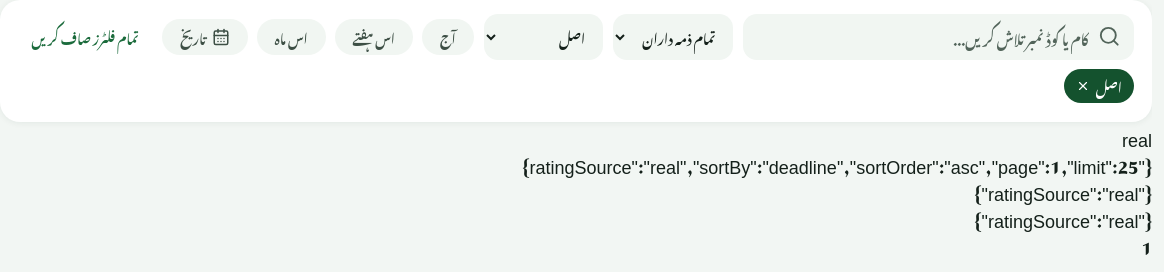
Test case: FilterBar — the "تخمینی / اصل" filter › reflects a value already in the URL, and "تمام فلٹرز صاف کریں" clears it
Expected: the dropdown named "Rating source filter" shows "اصل", [484, 14, 603, 60]
Click the button "تمام فلٹرز صاف کریں".
click(85, 36)  # box [18, 16, 152, 56]
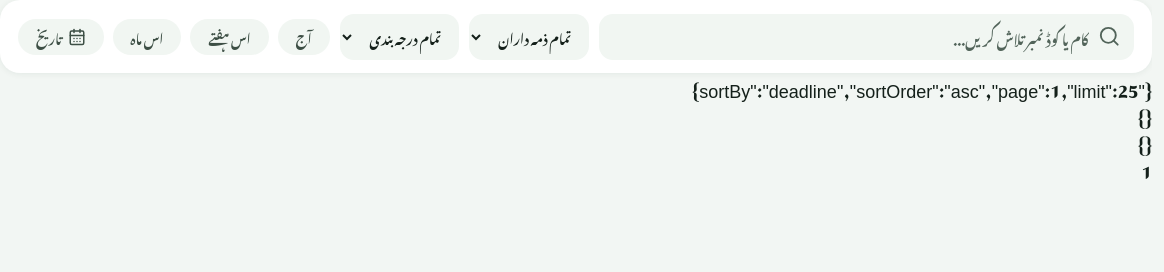
Now the dropdown named "Rating source filter" shows "تمام درجہ بندی", box [340, 14, 459, 60]
